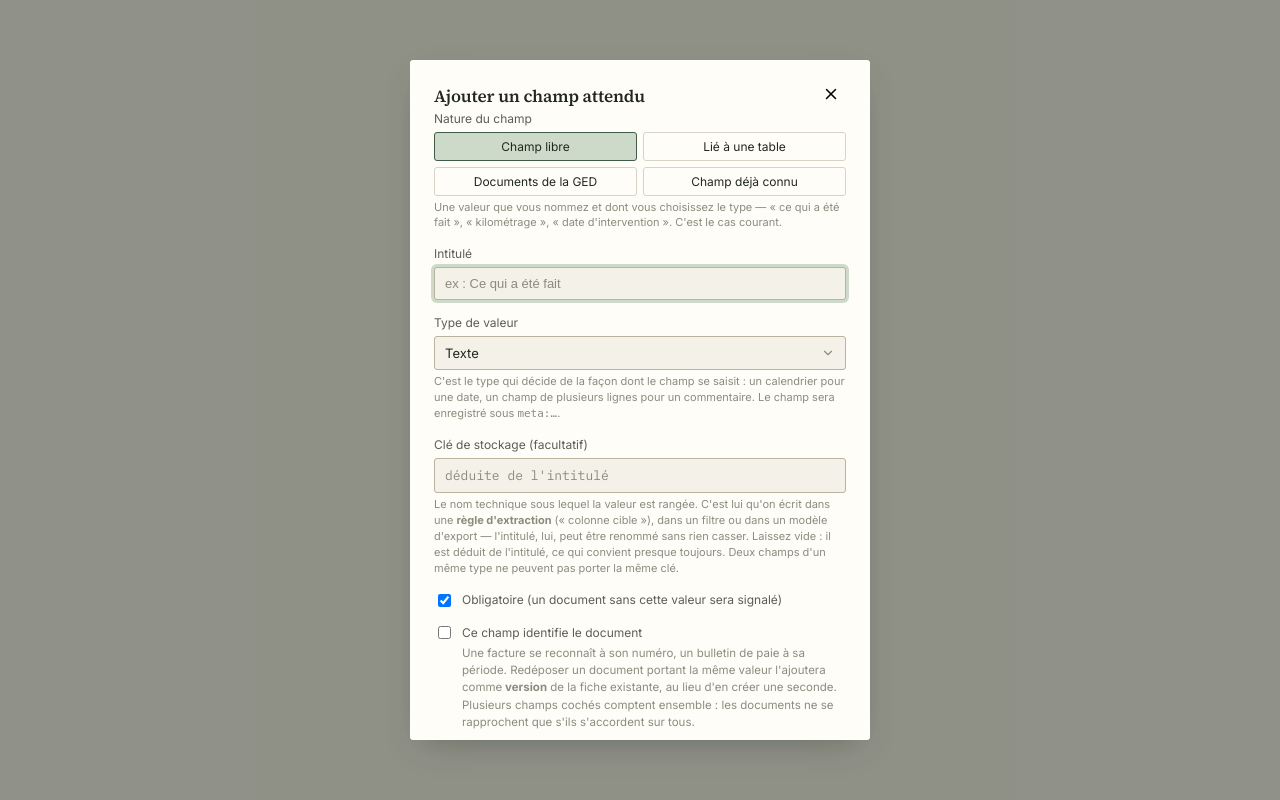
Test case: ce que « Champ déjà connu » propose › s'en tient au vocabulaire de ce type, pas à celui de toute la GED
Click the button "Champ déjà connu".
click(744, 181)  # box top-left (643, 166), bottom-right (846, 196)
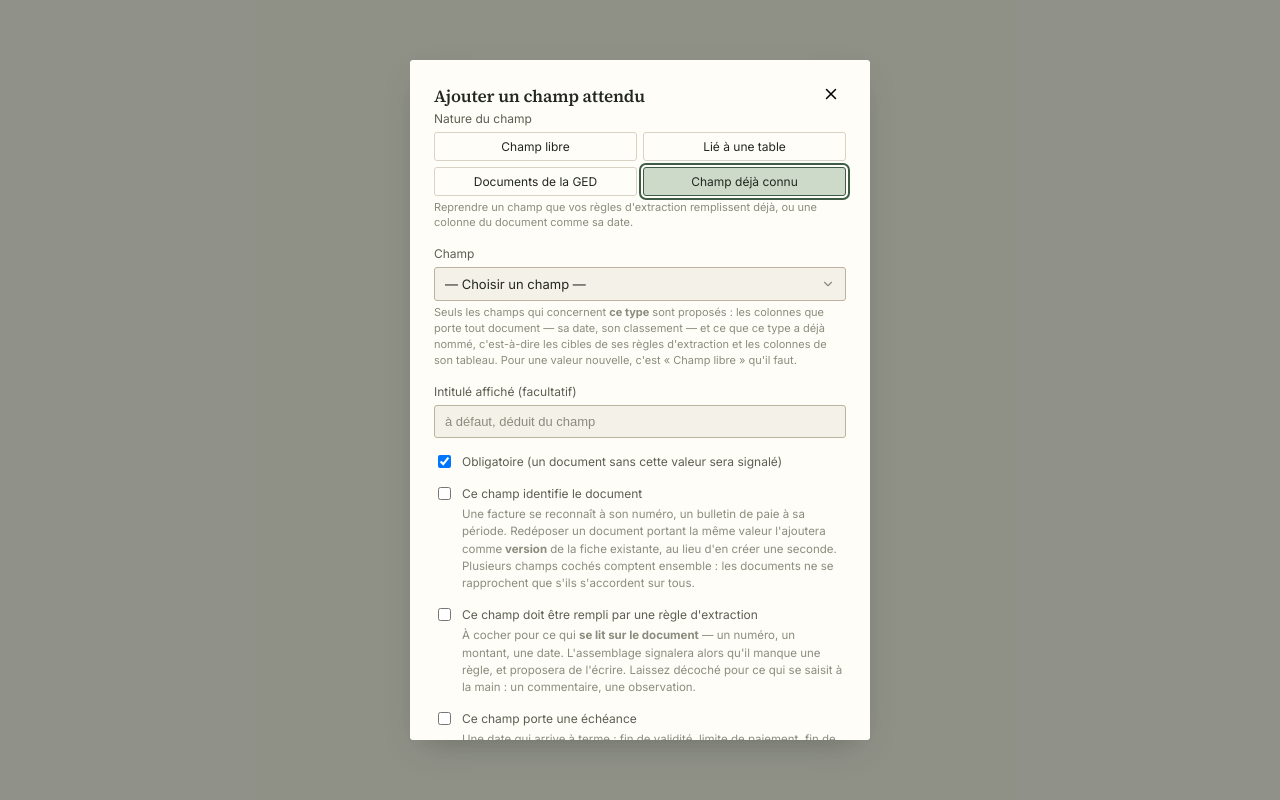
Click the button with aria-label "Champ attendu".
click(515, 284)  # box top-left (434, 267), bottom-right (846, 301)
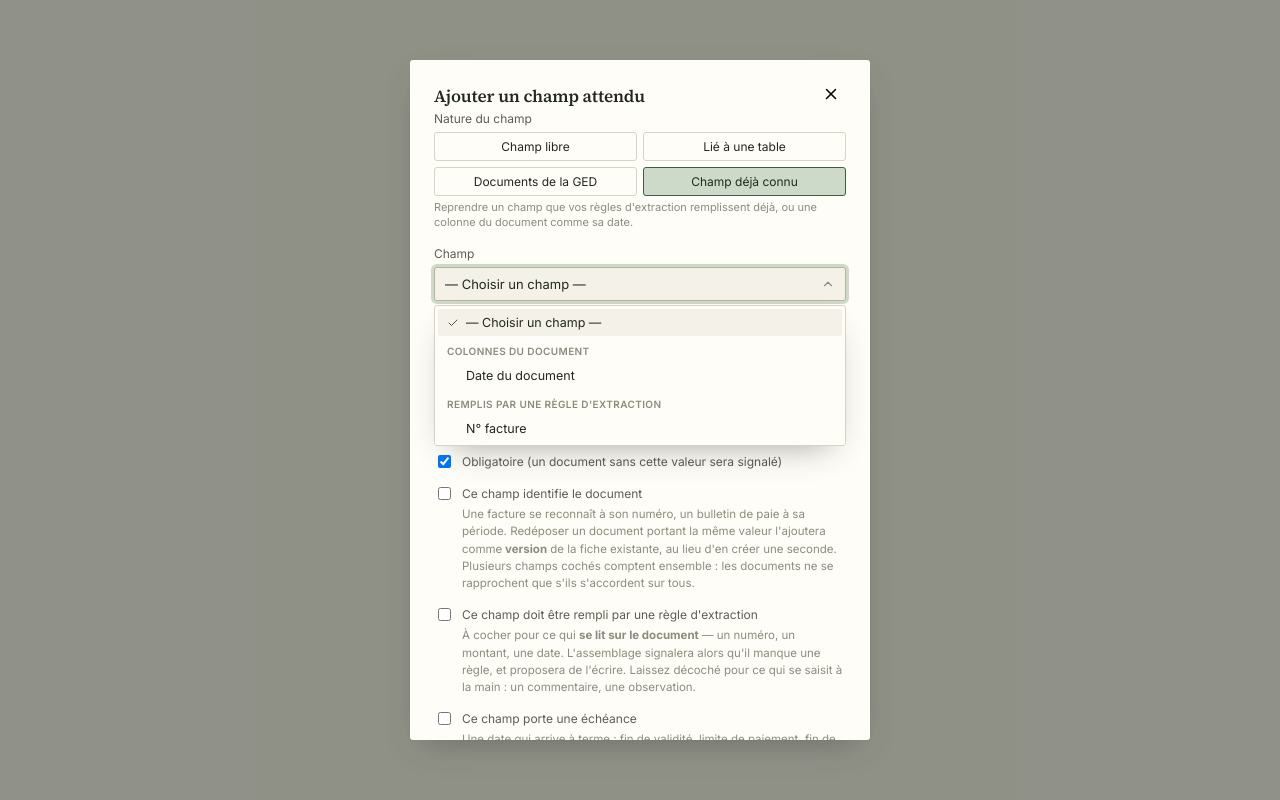
Now the text "N° facture" is shown, box top-left (466, 421), bottom-right (526, 436)
Now the text "Date du document" is shown, box top-left (466, 368), bottom-right (575, 383)
